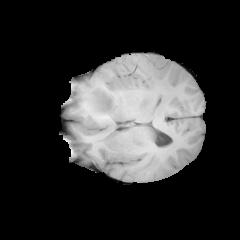glioma: (66, 82, 133, 131)
